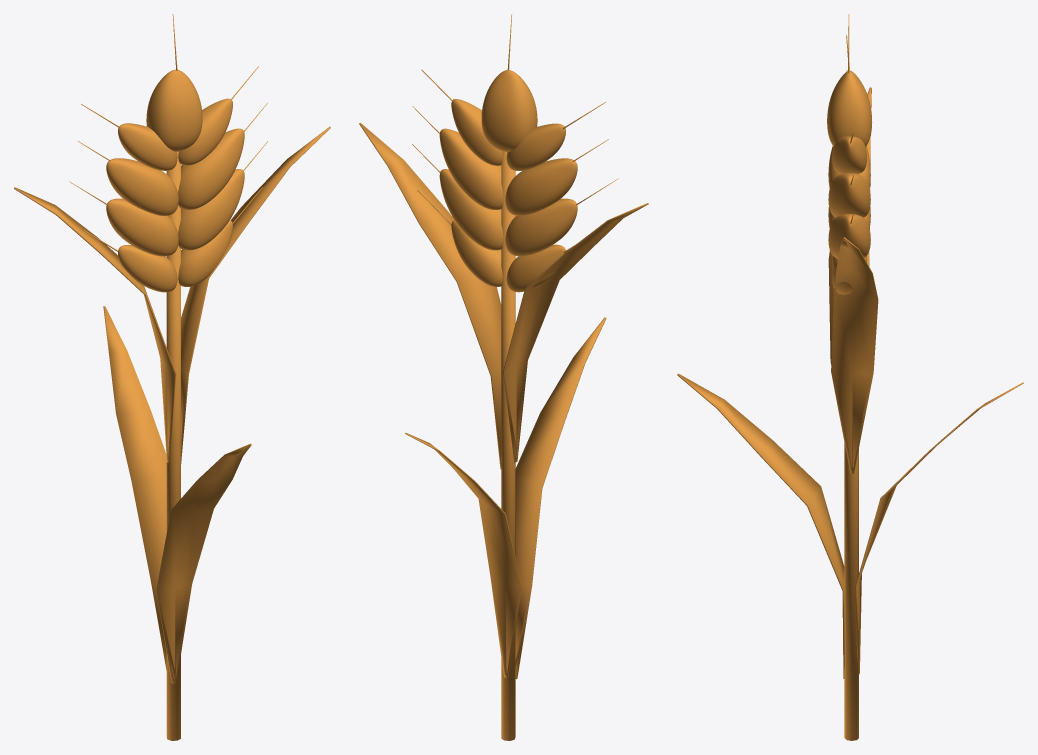
File: TrigoMaduro.fbx
3 views of the same model, side by side, from view 1: azimuth 30°, elevation 25°; view 2: azimuth 150°, elevation 25°; view 3: azimuth 270°, elevation 25° (orthographic).
Parts seen in each view (by area): view 1: TrigoMaduro; view 2: TrigoMaduro; view 3: TrigoMaduro.
Part boxes in pixels (x1,y1,x2,y2): TrigoMaduro: [14, 14, 330, 740]; TrigoMaduro: [359, 14, 648, 740]; TrigoMaduro: [677, 14, 1023, 740].
Bounding box in the file's own units: 52.14 × 119 × 51.78.
